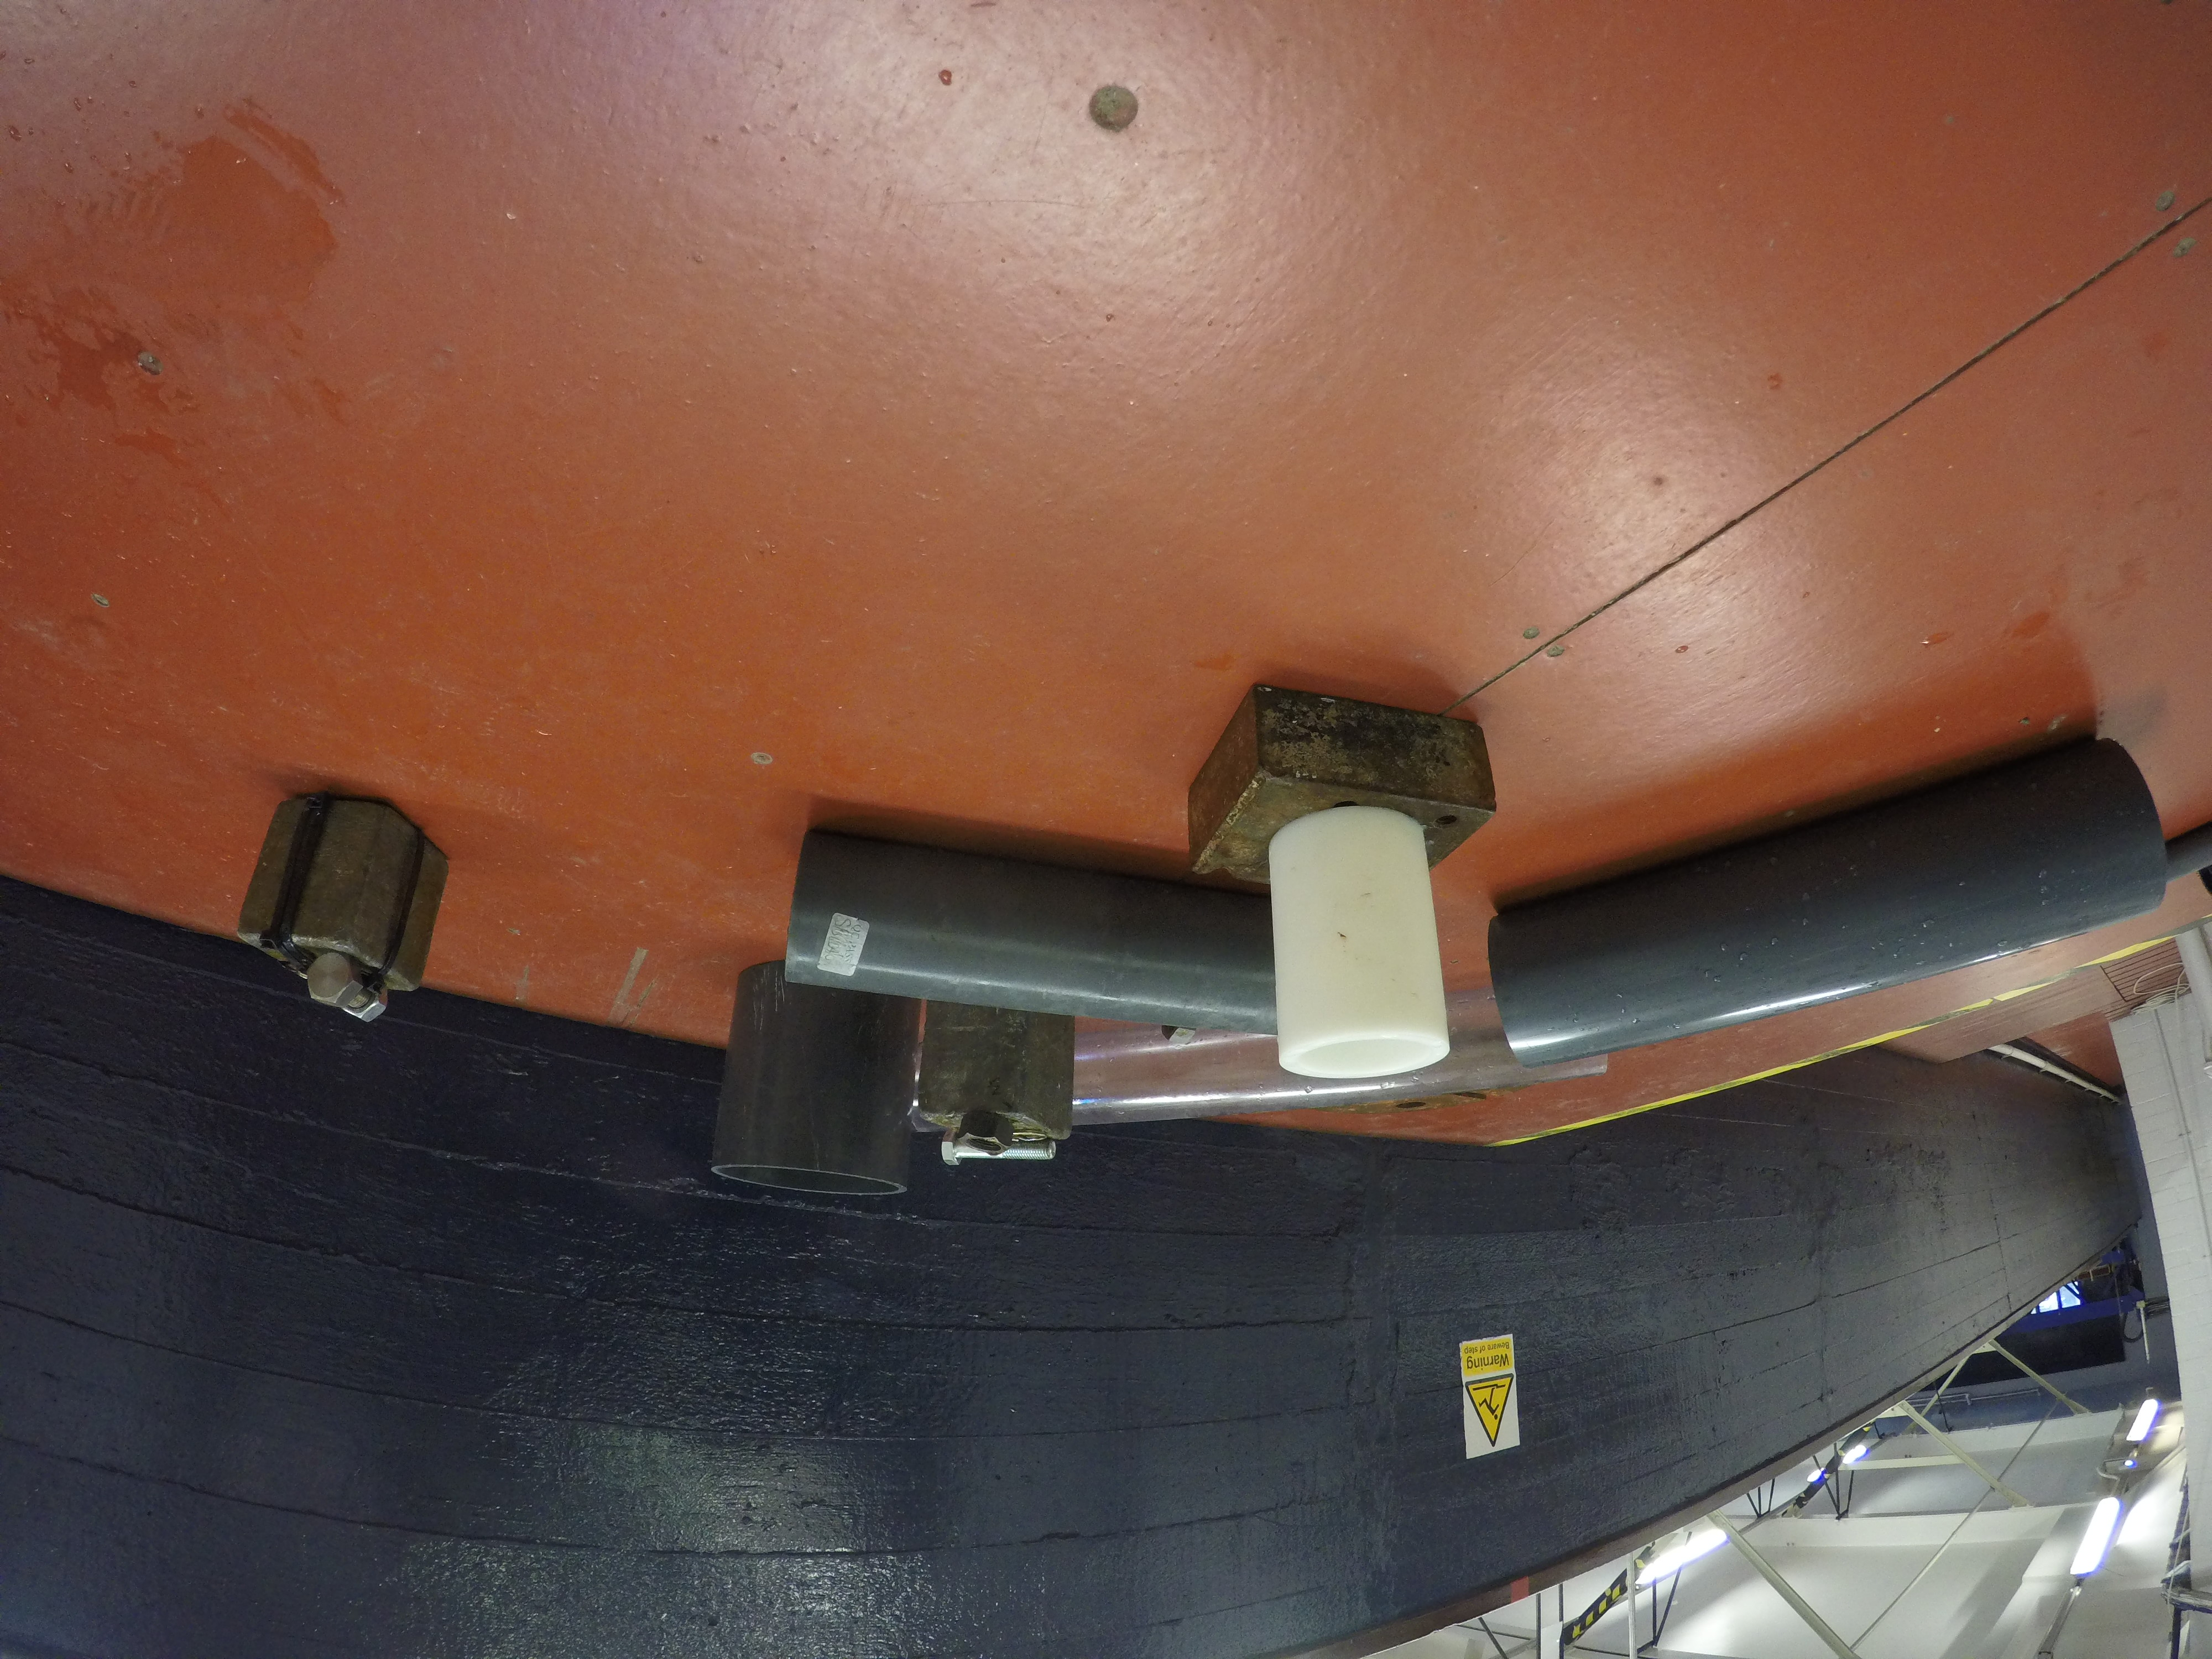bolt: (303, 951, 385, 1023), (941, 1131, 1057, 1169)
flange: (1312, 1087, 1531, 1114)
led_block: (1186, 681, 1496, 880), (239, 789, 453, 992), (918, 997, 1076, 1140)
nut: (958, 1110, 1014, 1157), (347, 992, 385, 1025), (1160, 1025, 1197, 1044)
pipe: (1486, 741, 2167, 1068), (786, 828, 1278, 1056), (1075, 1018, 1609, 1134), (1268, 807, 1451, 1079), (711, 960, 921, 1195)
